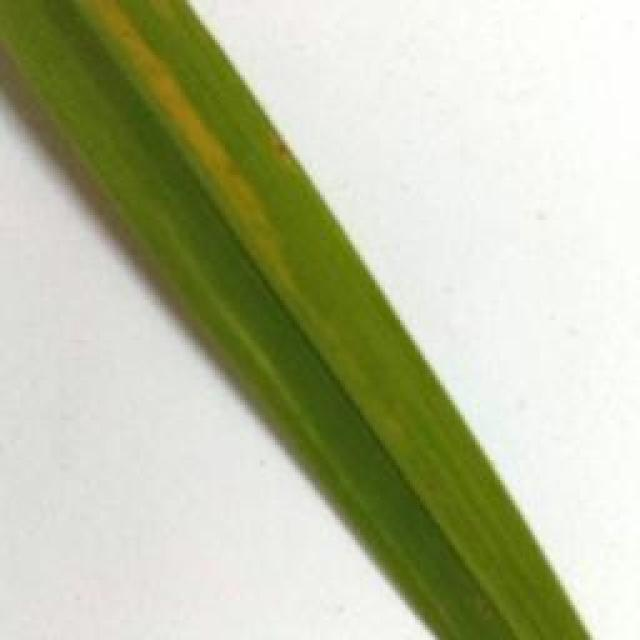Bacterial_Blight: (78, 7, 272, 249)
Brown_Spot: (270, 126, 302, 170)
